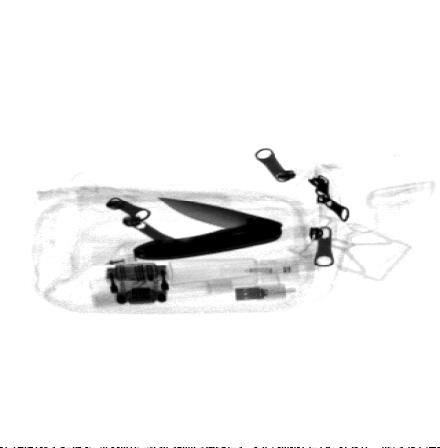Knife: (130, 196, 285, 262)
